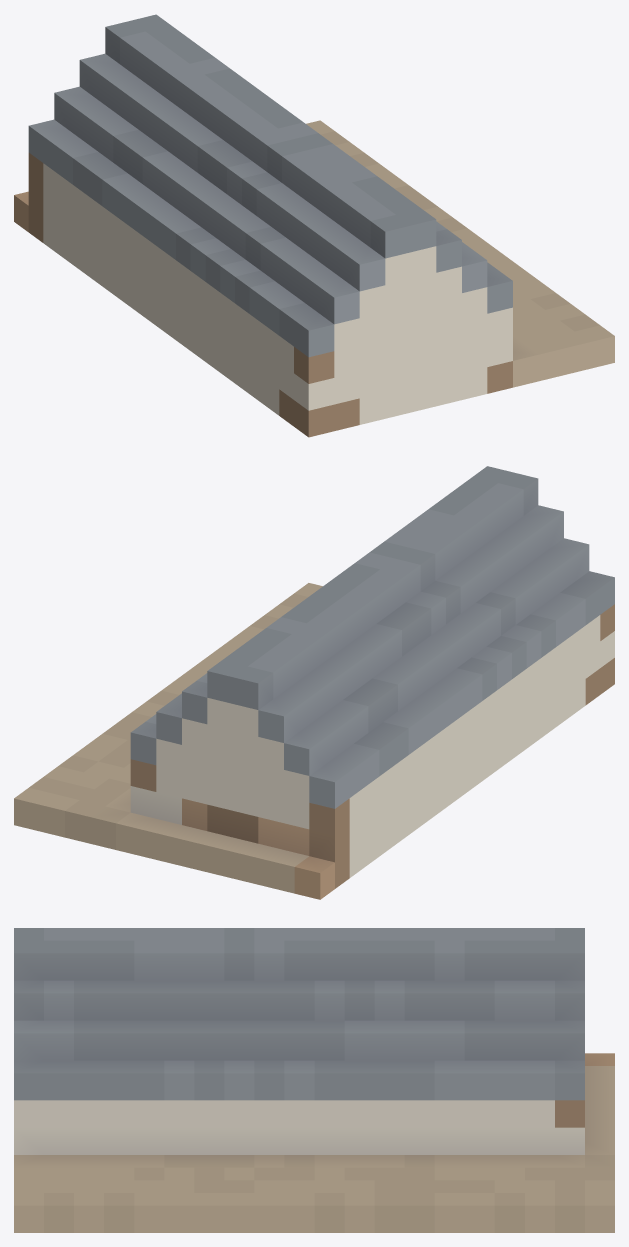
Rendered from church.lite.glb.
3 renders of one model, top to bottom at view 1: azimuth 30°, elevation 25°; view 2: azimuth 150°, elevation 25°; view 3: azimuth 270°, elevation 25°, orthographic.
Visible parts, largest first — view 1: church; view 2: church; view 3: church.
Boxes of the visible parts, box(x1,y1,x2,y2) form: church: box(14, 14, 614, 437); church: box(14, 466, 614, 899); church: box(14, 928, 614, 1232).
Bounding box in the file's own units: 6 × 3.5 × 10.
